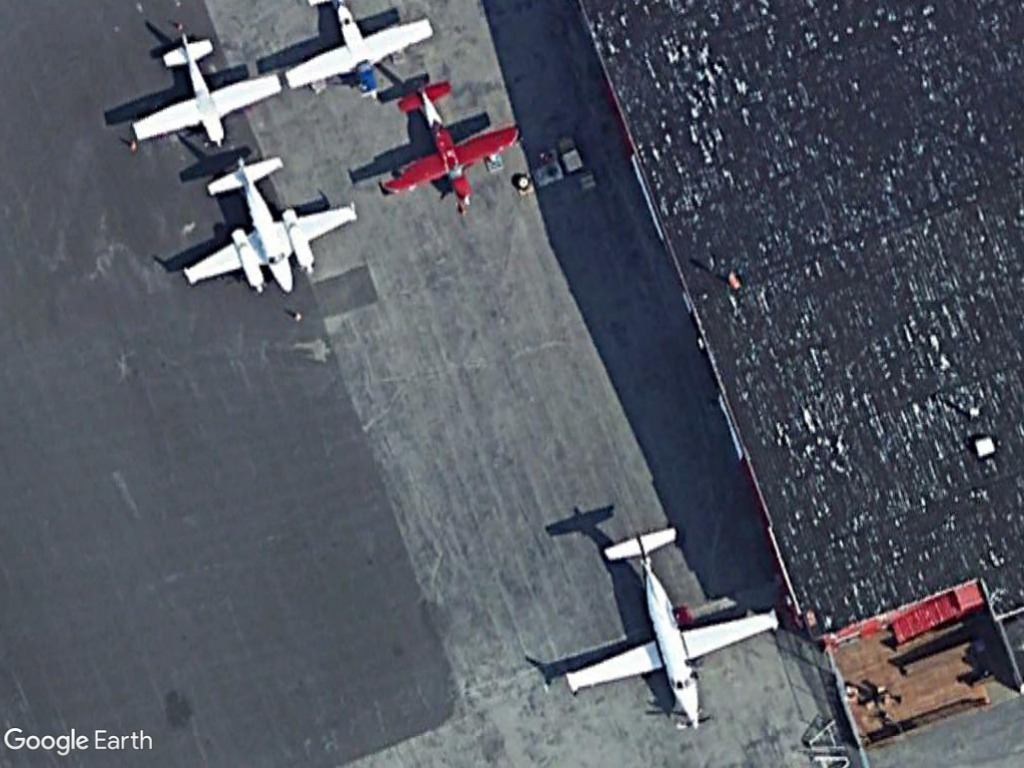propeller: (173, 155, 360, 307)
trainer: (548, 518, 785, 733), (367, 78, 533, 222), (129, 32, 287, 154)
